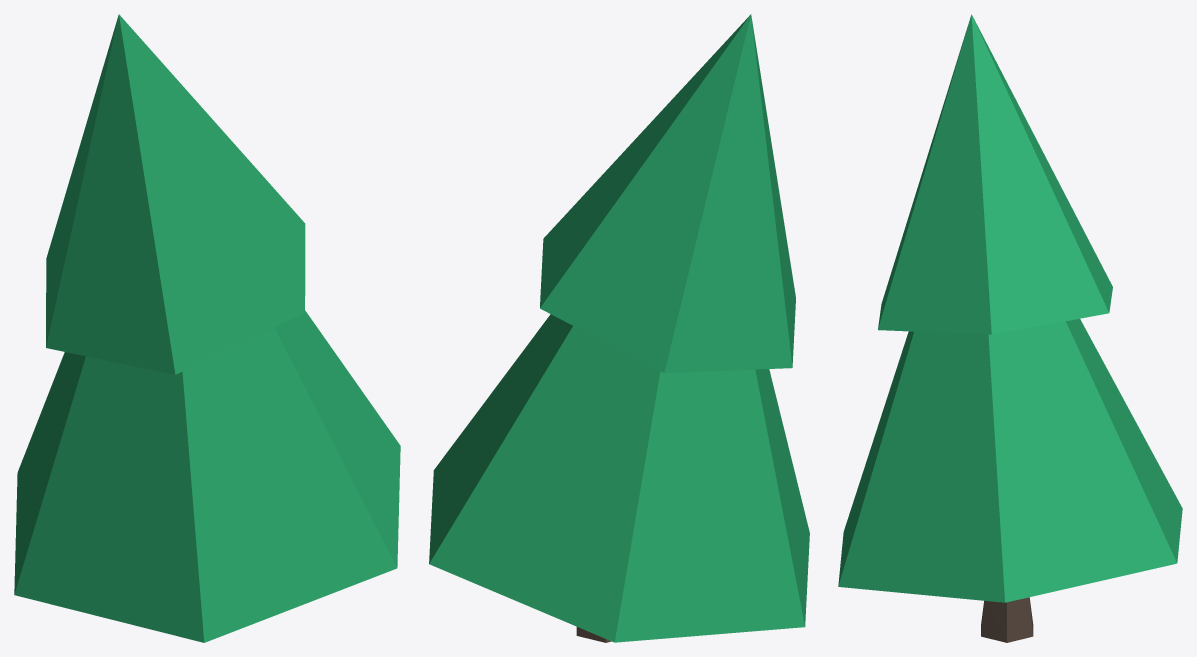
File: Tree_Pine_03.FBX
3 renders of one model, left to right at view 1: azimuth 30°, elevation 25°; view 2: azimuth 150°, elevation 25°; view 3: azimuth 270°, elevation 25°, orthographic. The views are drawn at different scales.
Visible parts, largest first — view 1: Tree_Pine_03; view 2: Tree_Pine_03; view 3: Tree_Pine_03.
Part boxes in pixels (x1,y1,x2,y2): Tree_Pine_03: (14,14,400,642); Tree_Pine_03: (429,14,809,642); Tree_Pine_03: (838,14,1182,642).
Bounding box in the file's own units: 7584 × 12110 × 6729.
